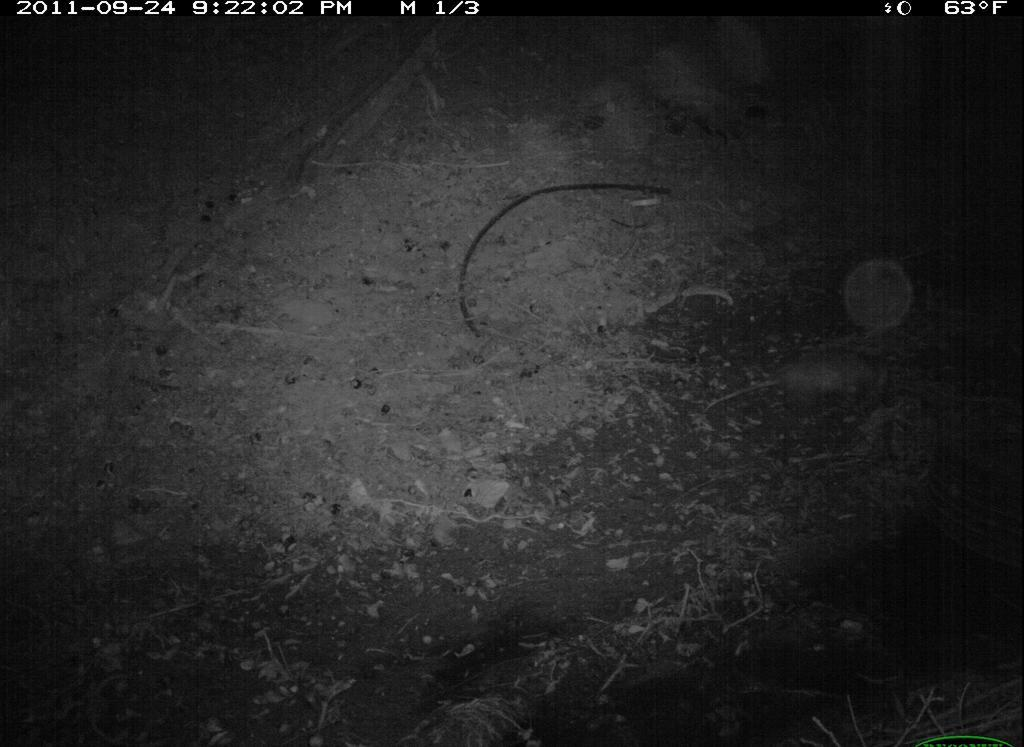opossum: (701, 344, 898, 432)
